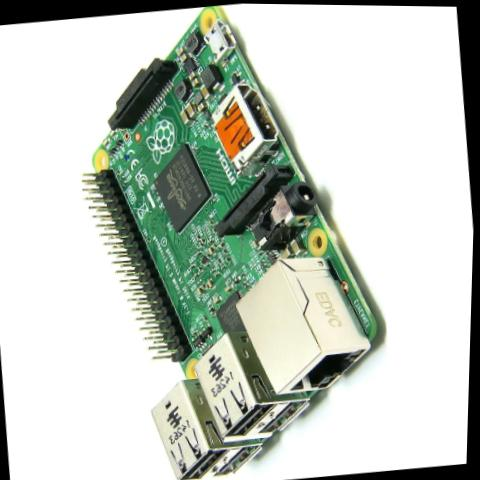Raspberry-Pi-2-Model-B: (59, 1, 405, 480)
